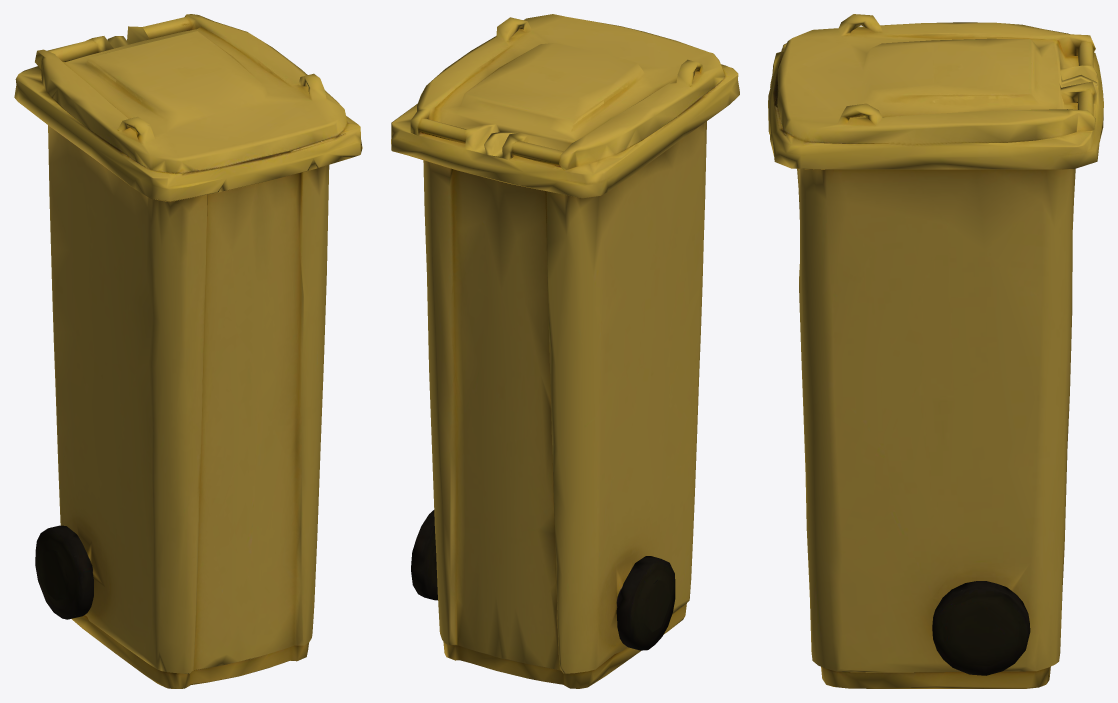
Rendered from yellow_waste_bin_3d_model.fbx.
3 renders of one model, left to right at view 1: azimuth 30°, elevation 25°; view 2: azimuth 150°, elevation 25°; view 3: azimuth 270°, elevation 25°, orthographic. The views are drawn at different scales.
Visible parts, largest first — view 1: tripo_node_131d3318; view 2: tripo_node_131d3318; view 3: tripo_node_131d3318.
Boxes of the visible parts, x1=… form: tripo_node_131d3318: x1=14, y1=14, x2=362, y2=688; tripo_node_131d3318: x1=391, y1=14, x2=739, y2=688; tripo_node_131d3318: x1=768, y1=14, x2=1103, y2=688.
Bounding box in the file's own units: 0.4119 × 0.9806 × 0.5053.
